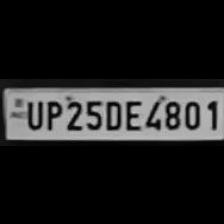0: (181, 97, 201, 130)
1: (201, 96, 221, 130)
2: (64, 96, 82, 132)
4: (142, 94, 162, 128)
5: (82, 96, 102, 130)
8: (162, 96, 182, 130)
D: (102, 96, 122, 130)
E: (122, 96, 142, 130)
P: (42, 96, 62, 130)
U: (23, 96, 43, 130)
